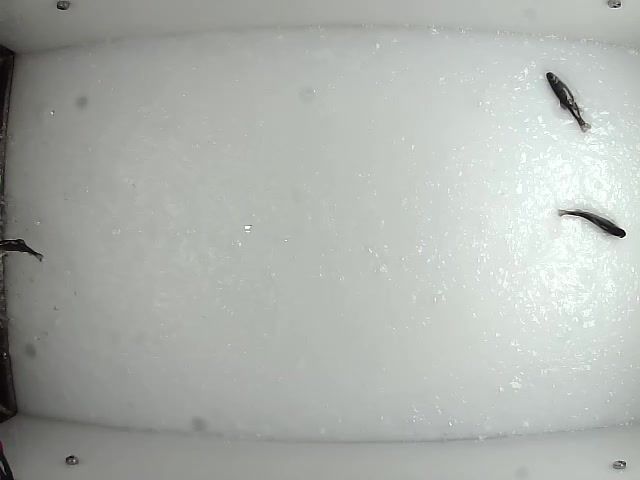fish: (544, 70, 593, 134), (557, 206, 627, 241)
